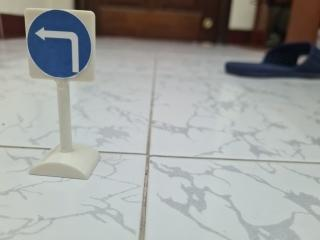left: (21, 0, 105, 95)
